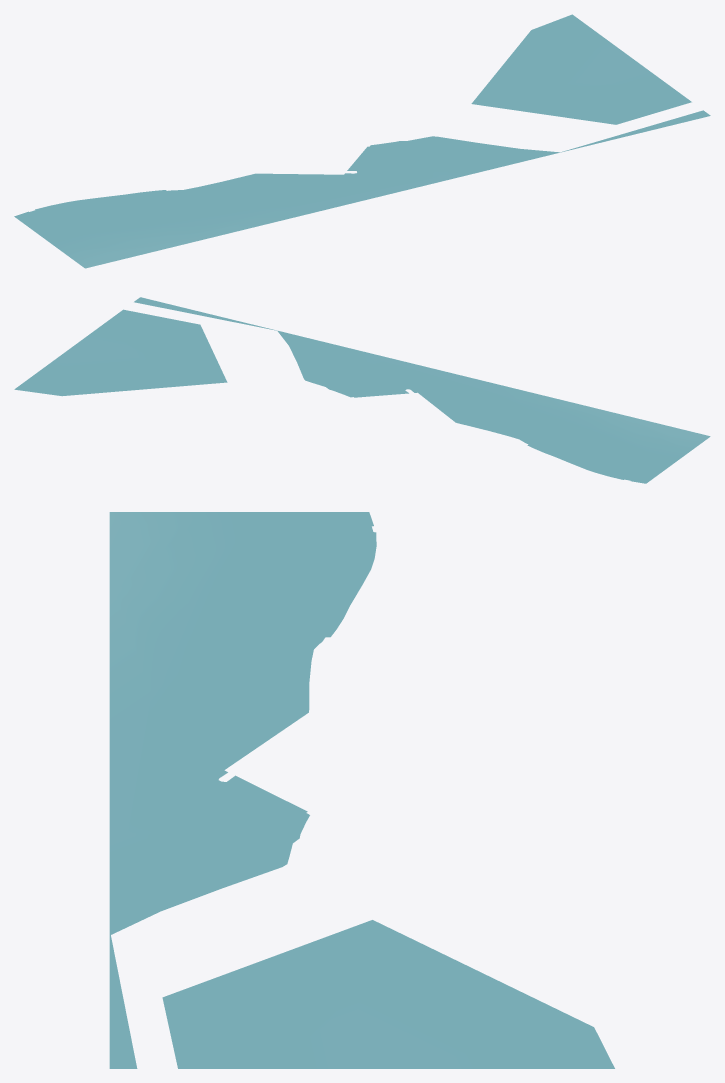
3 views of the same model, one above another, from view 1: azimuth 30°, elevation 25°; view 2: azimuth 150°, elevation 25°; view 3: azimuth 270°, elevation 25° (orthographic). The views are drawn at different scales.
Visible parts, largest first — view 1: city; view 2: city; view 3: city.
Part boxes in pixels (bbox=[...]): city: bbox=[14, 14, 710, 268]; city: bbox=[14, 297, 710, 483]; city: bbox=[109, 512, 614, 1068].
Bounding box in the file's own units: 500 × 0 × 192.
